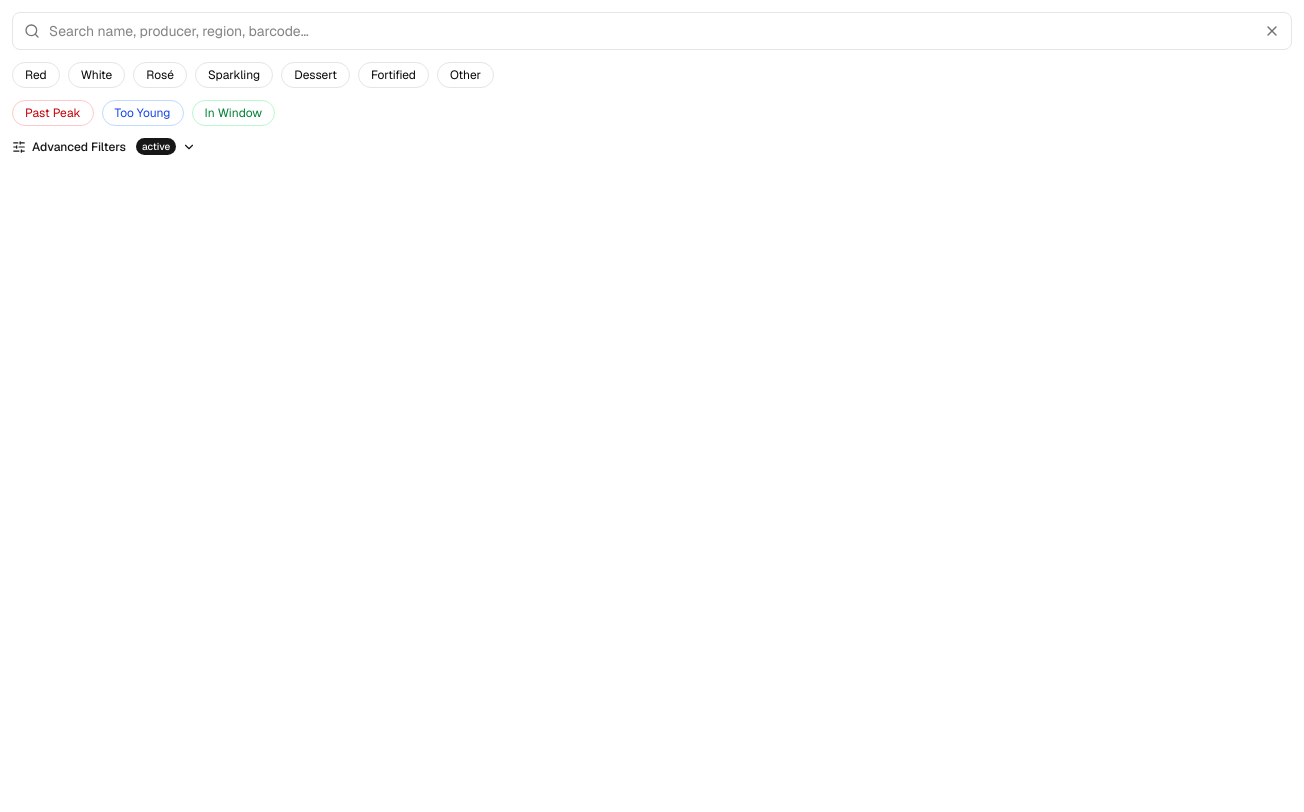
WineSearch › reflects vintage_year param in year input after opening advanced panel
This screenshot has width=1304, height=812.
Step 1. Click the button "Advanced Filters active" → (104, 147), box 12,138 -> 196,155
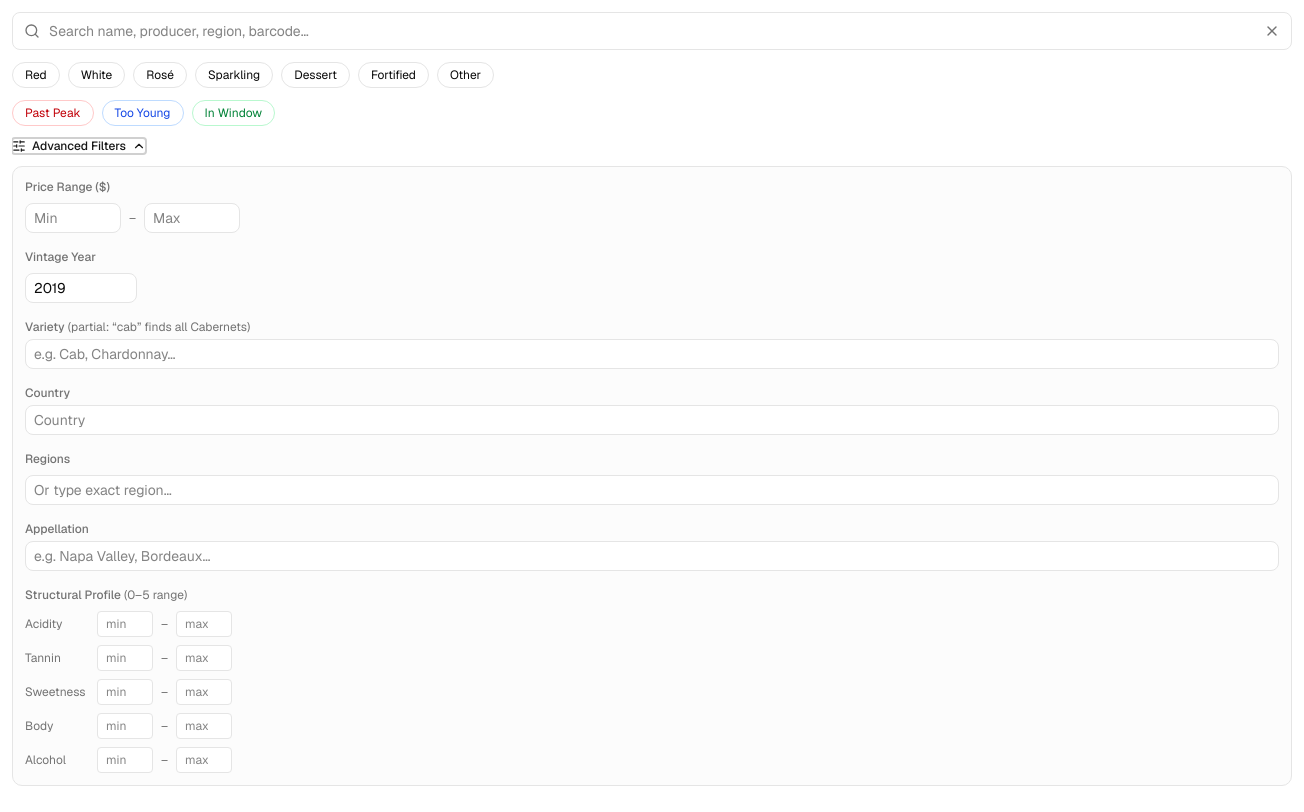
expect the number field showing "2019" is shown: met, box 25,273 -> 137,303
